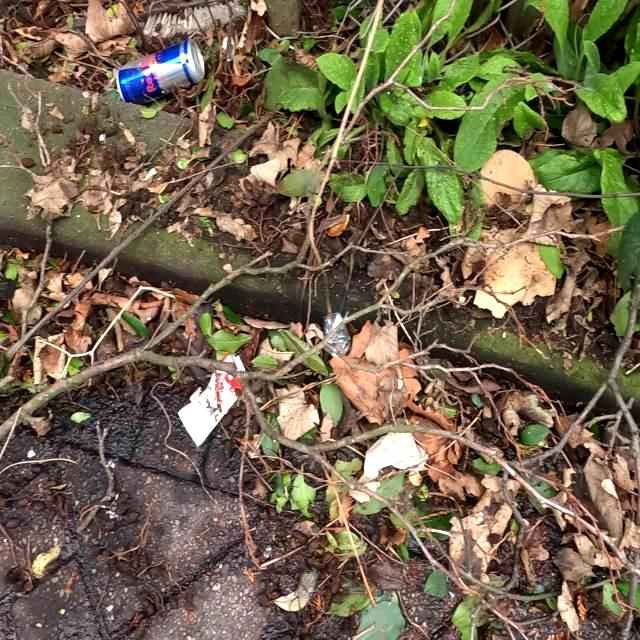Metal: (114, 36, 206, 104)
Paper: (364, 430, 430, 480)
Plastic: (176, 350, 247, 448)
